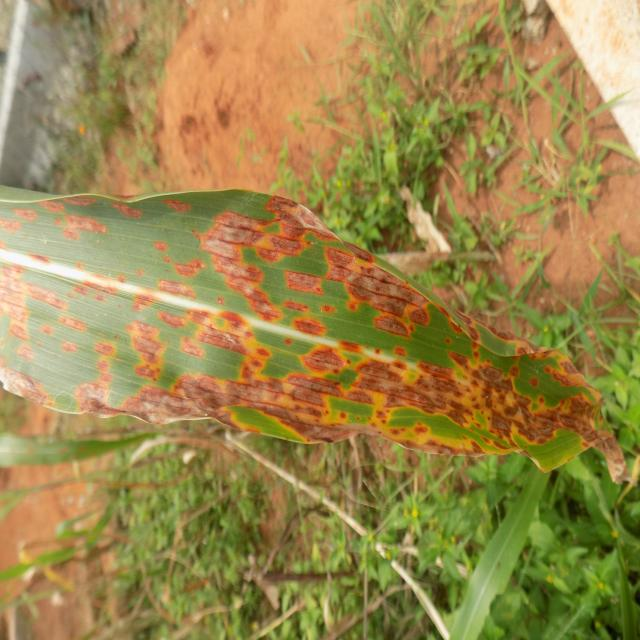millet_healthy: (442, 456, 566, 640)
millet_rust: (0, 182, 632, 477)
